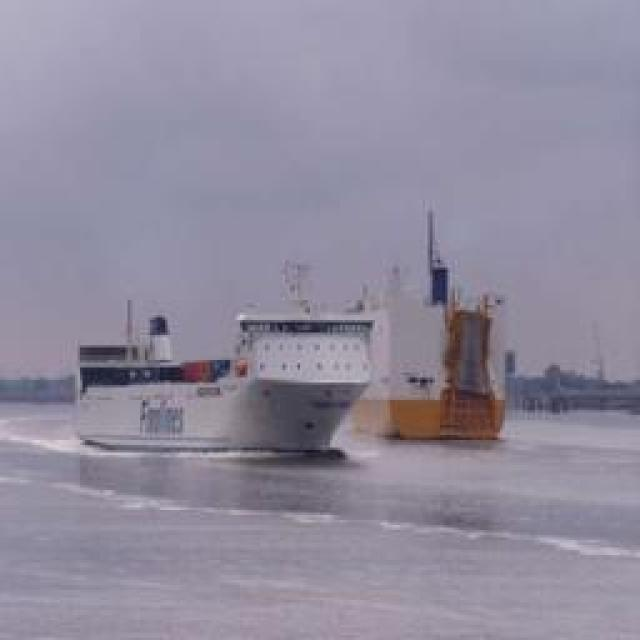CIV_Ship: (76, 294, 379, 458)
